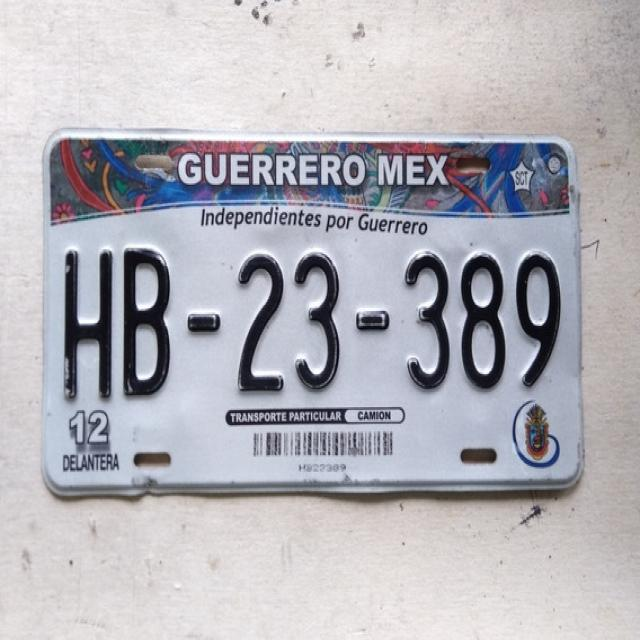placa: (50, 235, 573, 403)
